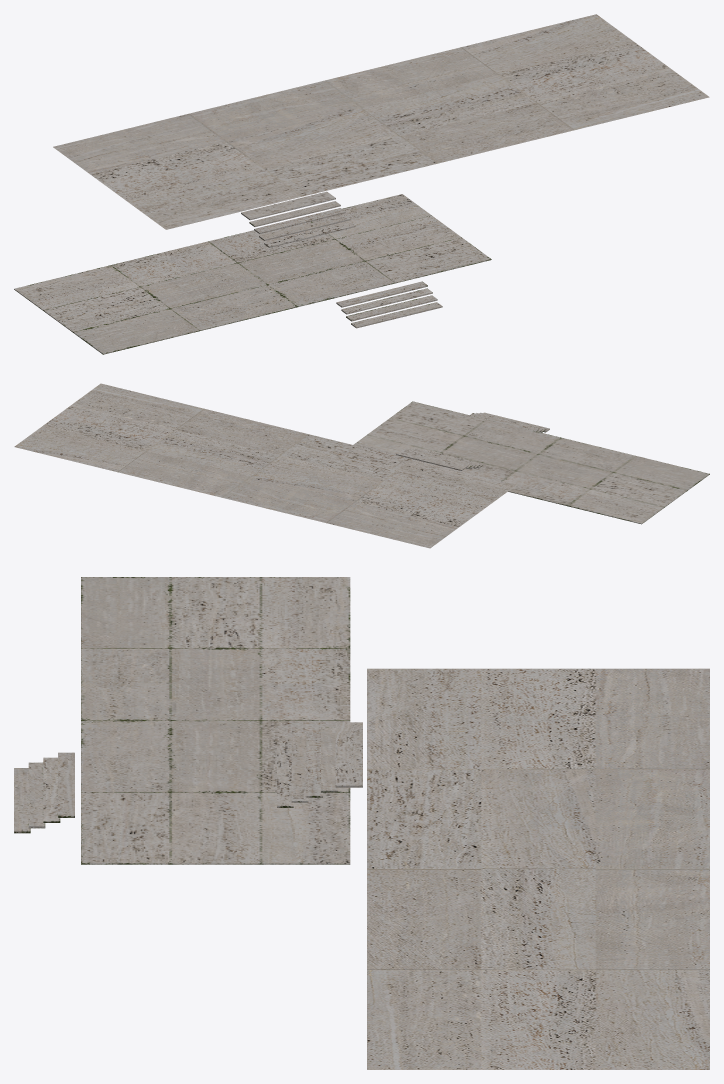
Rendered from Floor.fbx.
The picture shows the model from 3 angles, top to bottom: view 1: azimuth 30°, elevation 25°; view 2: azimuth 150°, elevation 25°; view 3: azimuth 270°, elevation 25°; orthographic projection. The views are drawn at different scales.
Parts seen in each view (by area): view 1: MeshBaker__3__mesh_mesh; view 2: MeshBaker__3__mesh_mesh; view 3: MeshBaker__3__mesh_mesh.
Boxes of the visible parts, x1,y1,x2,y2 form: MeshBaker__3__mesh_mesh: (14, 14, 709, 354); MeshBaker__3__mesh_mesh: (14, 383, 709, 548); MeshBaker__3__mesh_mesh: (14, 577, 709, 1069).
Size of the model in its own units: 2997 by 128 by 1704.
